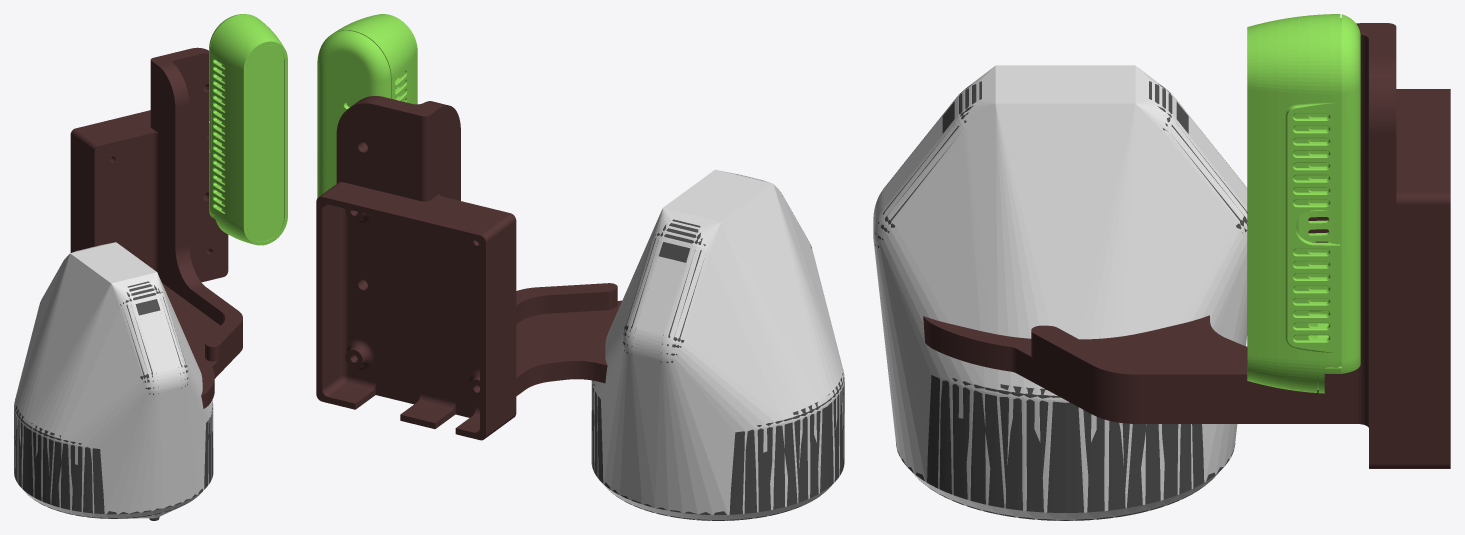
The model's file is camera_holder.dae.
3 renders of one model, left to right at view 1: azimuth 30°, elevation 25°; view 2: azimuth 150°, elevation 25°; view 3: azimuth 270°, elevation 25°, orthographic. The views are drawn at different scales.
Visible parts, largest first — view 1: camera holder v2, robotiq_arg2f_85_base_link; view 2: camera holder v2, robotiq_arg2f_85_base_link; view 3: camera holder v2, robotiq_arg2f_85_base_link.
Boxes of the visible parts, left/top/right/bottom form: camera holder v2: left=14, top=14, right=287, bottom=520; robotiq_arg2f_85_base_link: left=14, top=242, right=213, bottom=518; camera holder v2: left=316, top=14, right=844, bottom=520; robotiq_arg2f_85_base_link: left=591, top=169, right=844, bottom=520; camera holder v2: left=875, top=14, right=1450, bottom=520; robotiq_arg2f_85_base_link: left=873, top=65, right=1247, bottom=520.
Size of the model in its own units: 0.1393 by 0.1274 by 0.1515.
